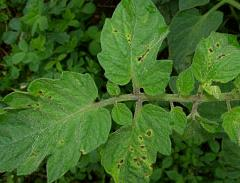Tomato leaf bacterial spot: (0, 66, 109, 183), (89, 0, 170, 99), (101, 102, 177, 183), (187, 31, 240, 91)
